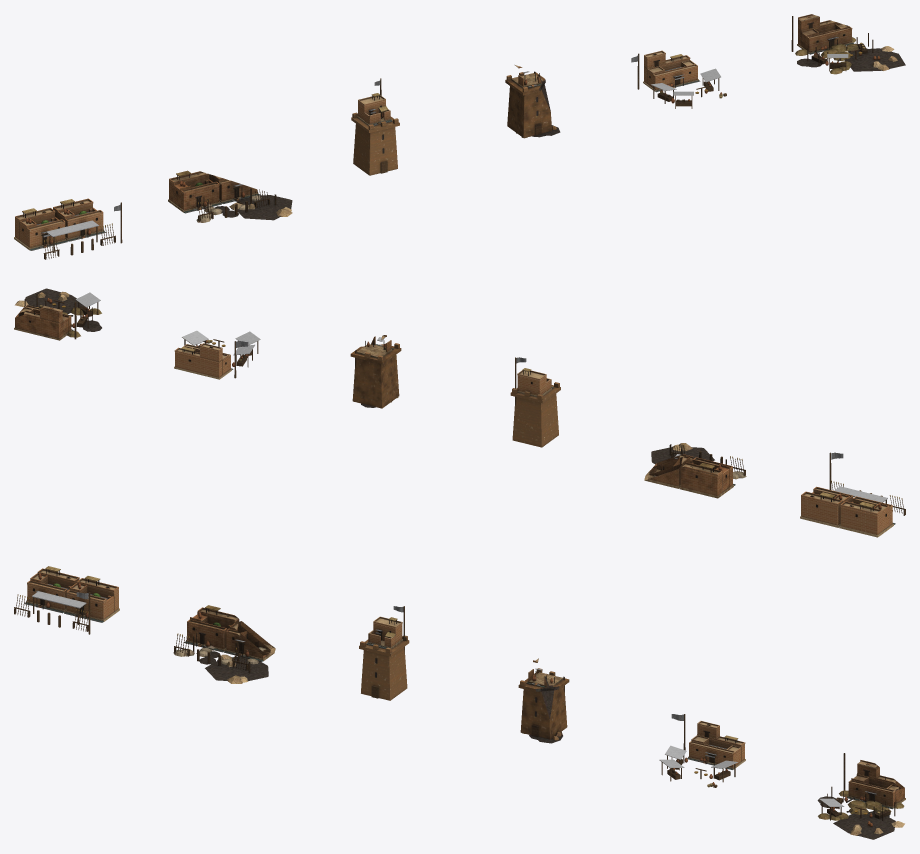
The model's file is rts-bronze-indic.glb.
3 views of the same model, one above another, from view 1: azimuth 30°, elevation 25°; view 2: azimuth 150°, elevation 25°; view 3: azimuth 330°, elevation 25° (orthographic). The views are drawn at different scales.
Parts seen in each view (by area): view 1: LOD0.001, LOD0.005, LOD0, LOD0.002, LOD0.004, LOD0.003; view 2: LOD0, LOD0.001, LOD0.005, LOD0.002, LOD0.003, LOD0.004; view 3: LOD0.001, LOD0.005, LOD0, LOD0.002, LOD0.003, LOD0.004.
Boxes of the visible parts, x1,y1,x2,y2 form: LOD0.001: (168,170,292,222); LOD0.005: (791,14,905,74); LOD0: (14,198,122,259); LOD0.002: (351,78,399,175); LOD0.004: (631,50,726,108); LOD0.003: (505,65,560,138); LOD0: (800,452,905,537); LOD0.001: (644,443,746,498); LOD0.005: (14,288,101,340); LOD0.002: (510,357,560,447); LOD0.003: (350,335,401,408); LOD0.004: (174,330,260,379); LOD0.001: (173,605,275,683); LOD0.005: (817,753,905,839); LOD0: (14,566,119,634); LOD0.002: (359,606,409,700); LOD0.003: (518,658,569,743); LOD0.004: (659,714,745,787).
Size of what is drawn, in the model's own units: 16.65 by 1.48 by 1.65.
2 materials, 2 textured.
